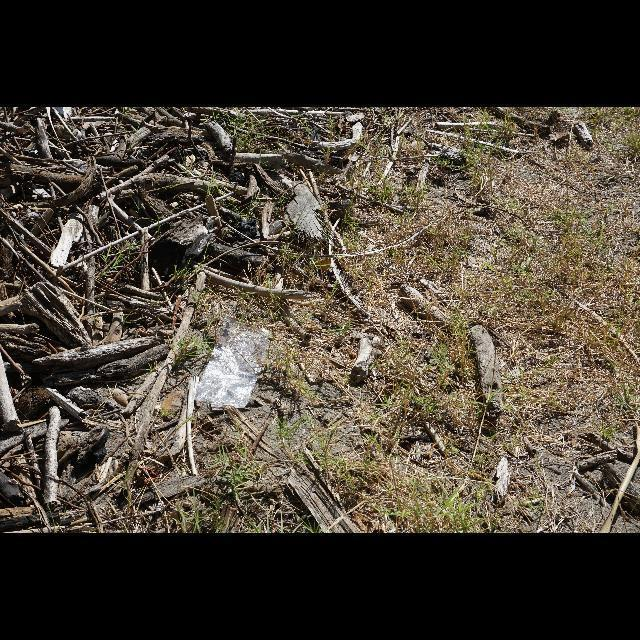Plastic: (194, 316, 272, 408)
